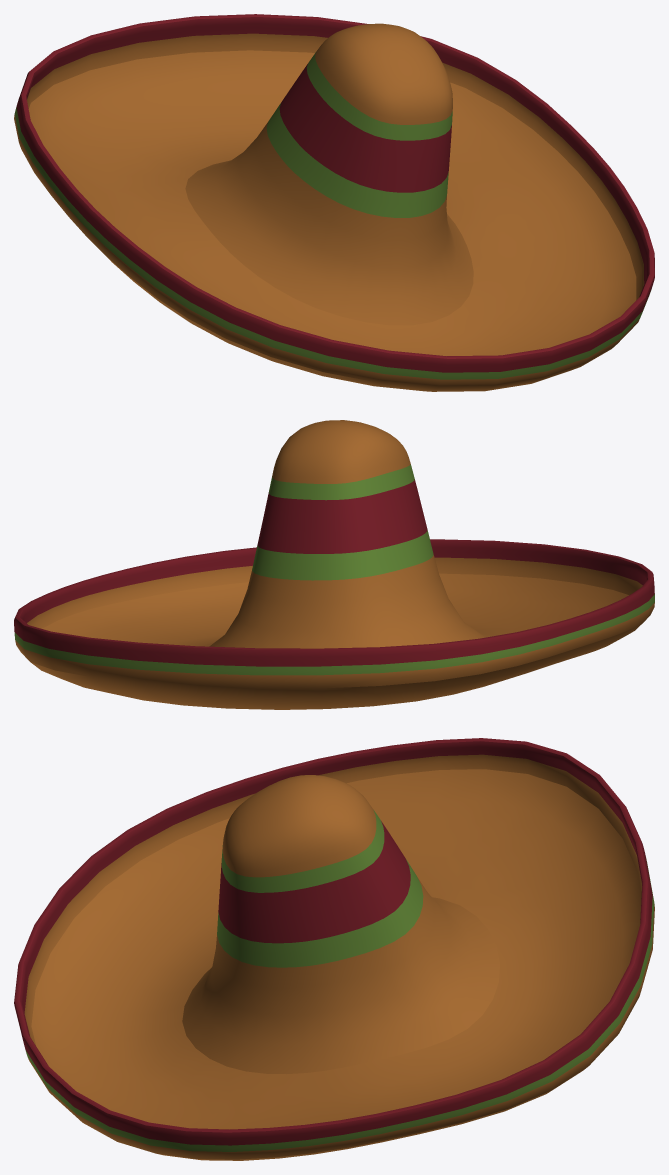
File: sombrero.fbx
The picture shows the model from 3 angles, top to bottom: view 1: azimuth 30°, elevation 25°; view 2: azimuth 150°, elevation 25°; view 3: azimuth 270°, elevation 25°; orthographic projection. The views are drawn at different scales.
Visible parts, largest first — view 1: Cactoro_Blob.001; view 2: Cactoro_Blob.001; view 3: Cactoro_Blob.001.
Part boxes in pixels (bbox=[...]): Cactoro_Blob.001: bbox=[14, 14, 654, 391]; Cactoro_Blob.001: bbox=[14, 420, 654, 709]; Cactoro_Blob.001: bbox=[14, 738, 654, 1160].
Size of the model in its own units: 354 by 357 by 178.
